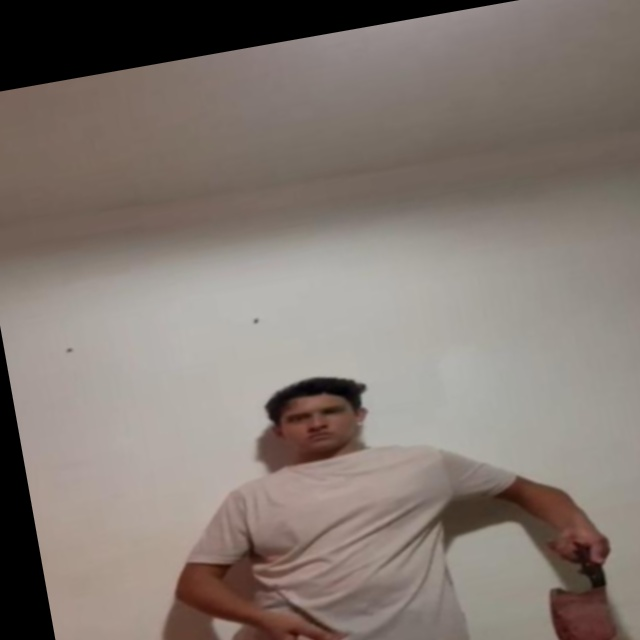Sharp-Object: (539, 576, 626, 640)
